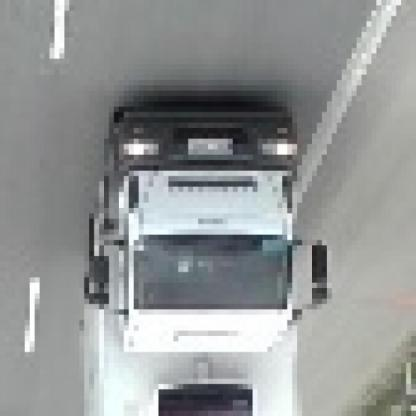truck: (70, 107, 323, 416)
